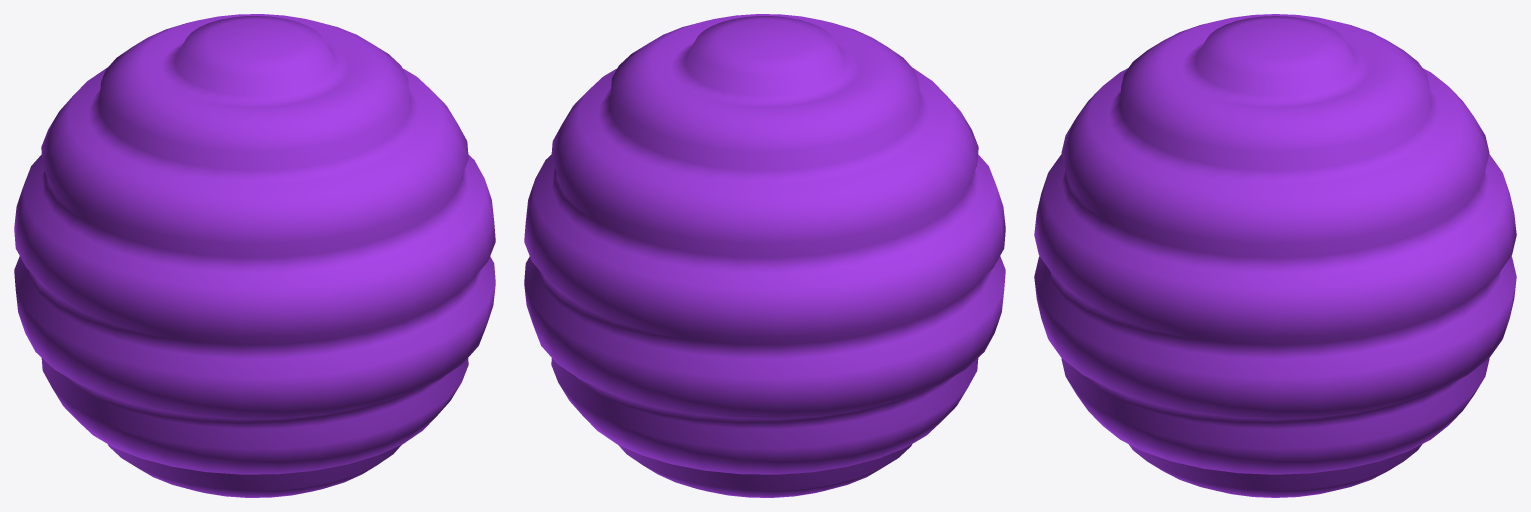
3 renders of one model, left to right at view 1: azimuth 30°, elevation 25°; view 2: azimuth 150°, elevation 25°; view 3: azimuth 270°, elevation 25°, orthographic.
Visible parts, largest first — view 1: Sphere.005; view 2: Sphere.005; view 3: Sphere.005.
Part boxes in pixels (box(x1,y1,x2,y2)): Sphere.005: box(14, 14, 495, 497); Sphere.005: box(524, 14, 1005, 497); Sphere.005: box(1034, 14, 1516, 497).
Size of the model in its own units: 410 by 414 by 410.
